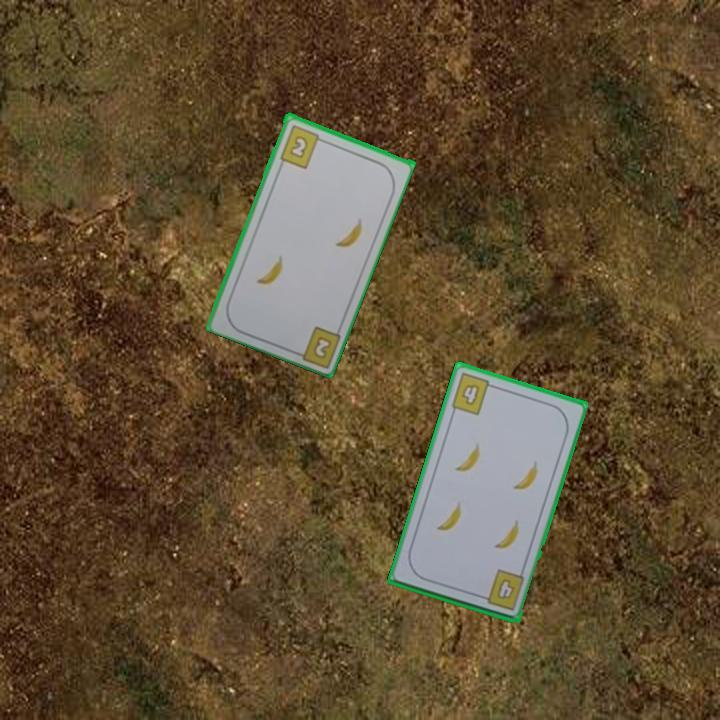2b: (276, 121, 327, 171), (311, 332, 334, 359)
4b: (448, 369, 499, 418), (495, 575, 517, 600)
